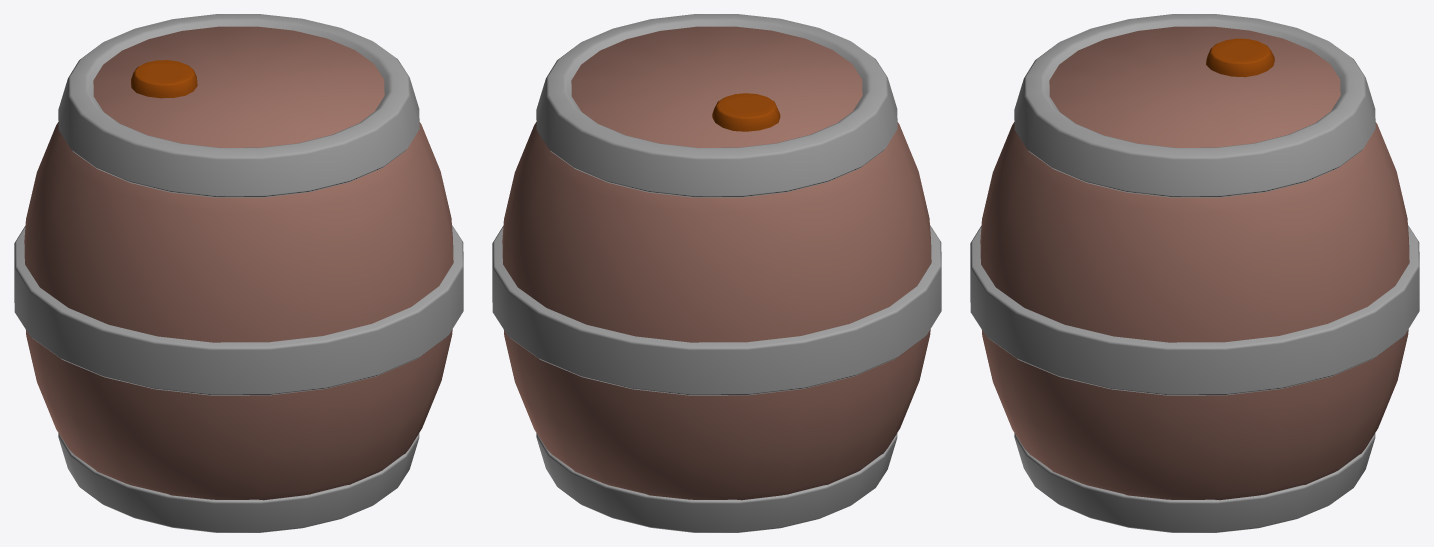
The model's file is Farm_10_Barrel_1.glb.
The picture shows the model from 3 angles, left to right: view 1: azimuth 30°, elevation 25°; view 2: azimuth 150°, elevation 25°; view 3: azimuth 270°, elevation 25°; orthographic projection.
Parts seen in each view (by area): view 1: Farm_10_Barrel_1; view 2: Farm_10_Barrel_1; view 3: Farm_10_Barrel_1.
Boxes of the visible parts, bbox=[...] form: Farm_10_Barrel_1: bbox=[14, 14, 463, 532]; Farm_10_Barrel_1: bbox=[492, 14, 941, 532]; Farm_10_Barrel_1: bbox=[970, 14, 1419, 532].
Size of the model in its own units: 0.9109 by 0.8671 by 0.911.
1 material, 1 textured.
